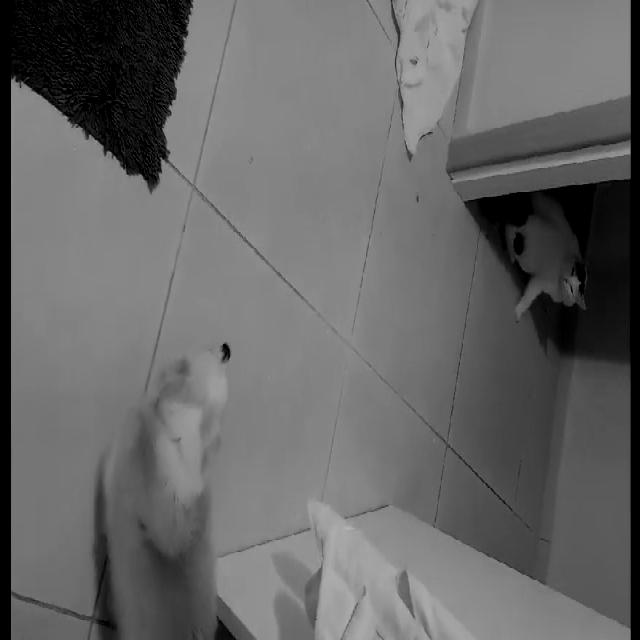Simba: (488, 186, 612, 342)
Theo: (85, 332, 248, 638)
